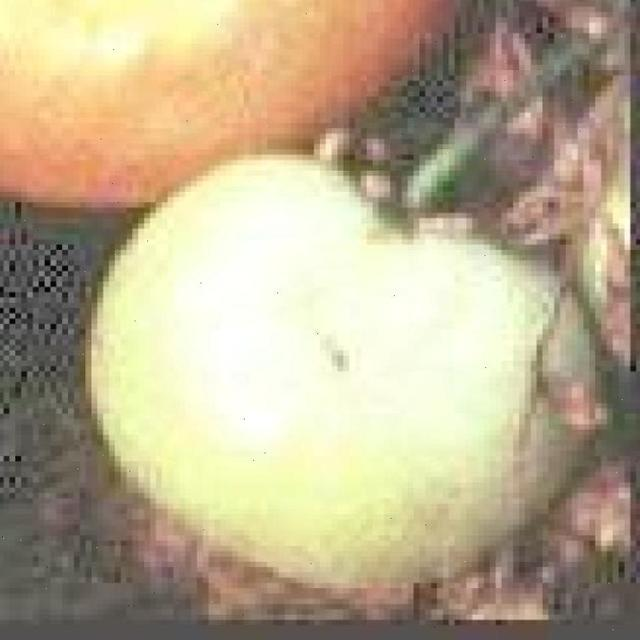Sunscald Fruit: (114, 32, 250, 230)
